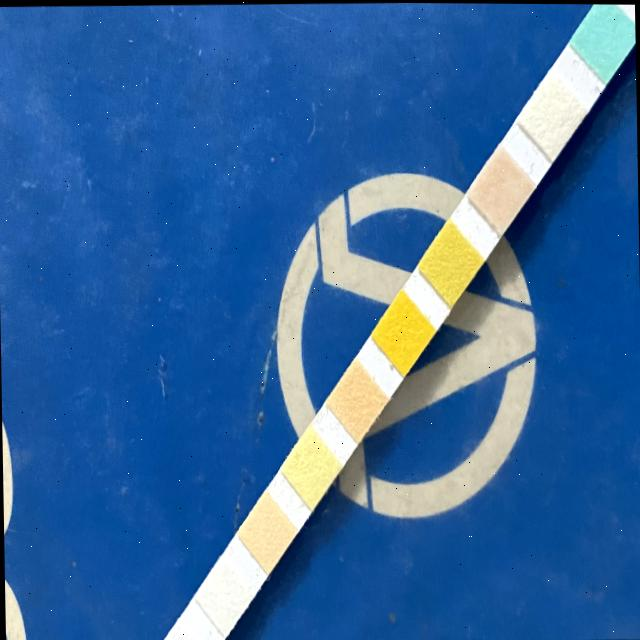Bilirubin: (538, 83, 565, 144)
Blood: (385, 307, 420, 354)
Glucose: (588, 9, 622, 62)
Ketone: (483, 161, 515, 214)
Leukocytes: (164, 633, 192, 640)
Nitrite: (207, 573, 242, 615)
Protein: (294, 443, 326, 489)
SpGravity: (434, 237, 467, 287)
Urobilinogen: (254, 504, 281, 557)
pH: (339, 378, 374, 421)
